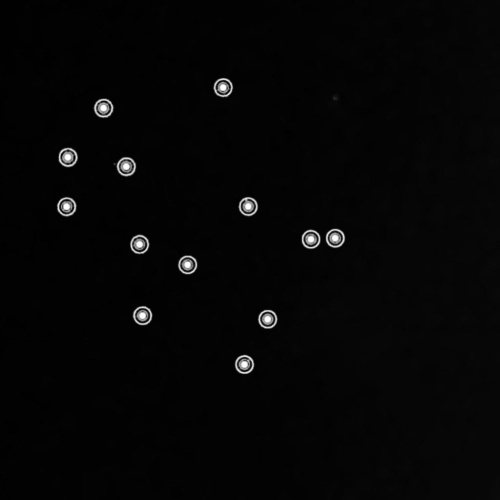gemini: (49, 72, 349, 383)
